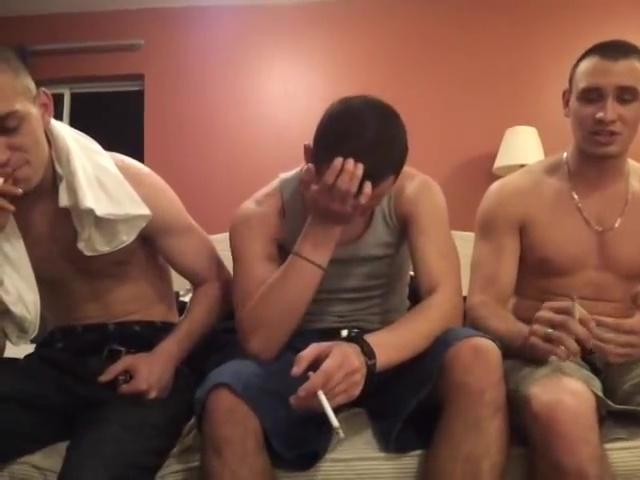cigarette: (316, 383, 348, 444), (569, 294, 583, 324)
